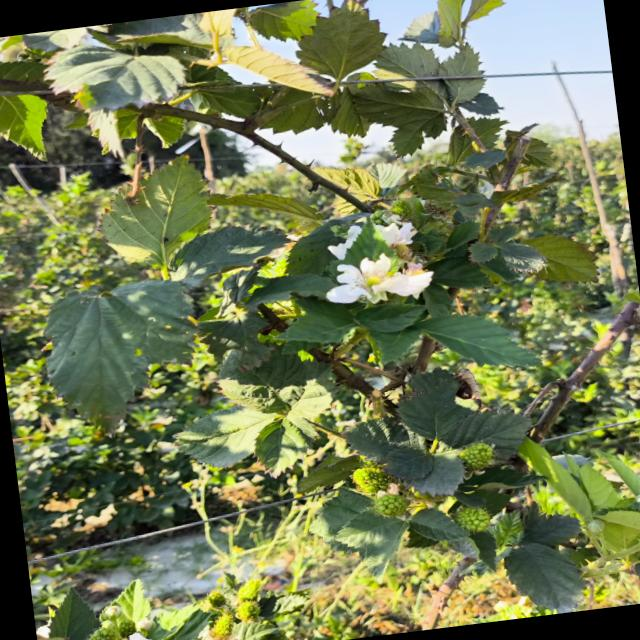flor: (326, 253, 433, 303), (328, 225, 361, 259), (375, 222, 416, 246)
verde: (352, 465, 390, 494), (455, 506, 491, 532), (459, 442, 493, 469), (374, 494, 408, 516)
